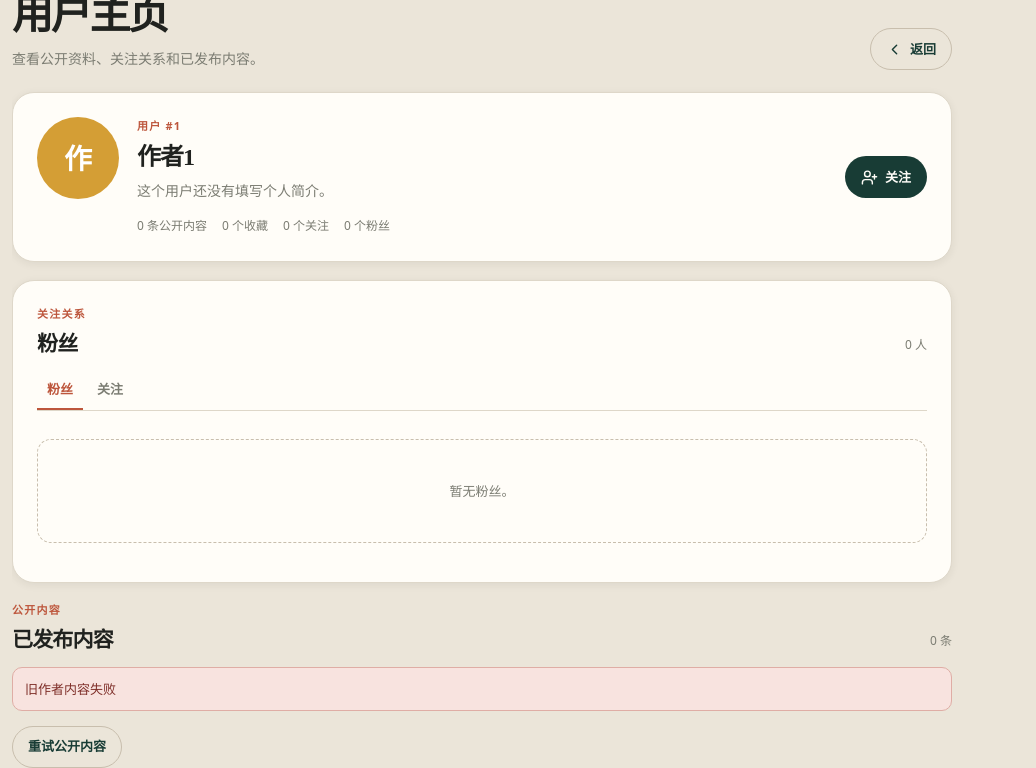
Test: 公开主页的分区状态 › ignores a content retry that arrives after switching authors
(page scrolled)
expect the heading "作者1" is shown: met, box [137,144,194,170]
Click the button "重试公开内容" at coordinates (67, 747), box [12,726,122,767]
(page scrolled)
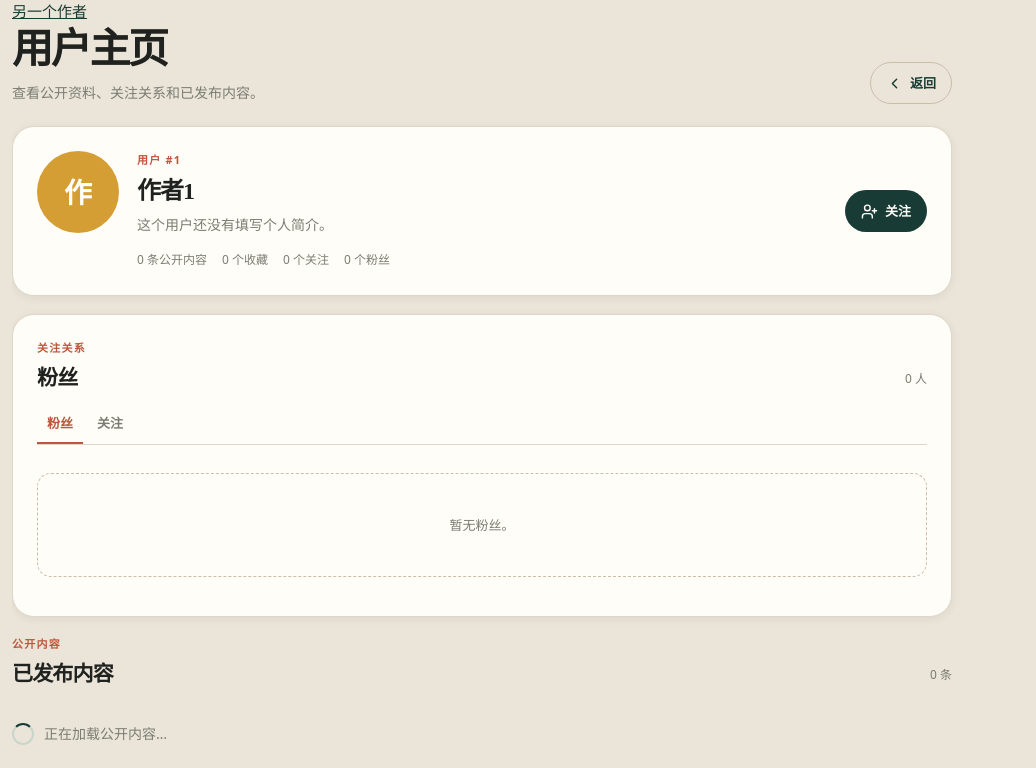
Click the link "另一个作者" at coordinates (50, 12), box [12,4,87,20]
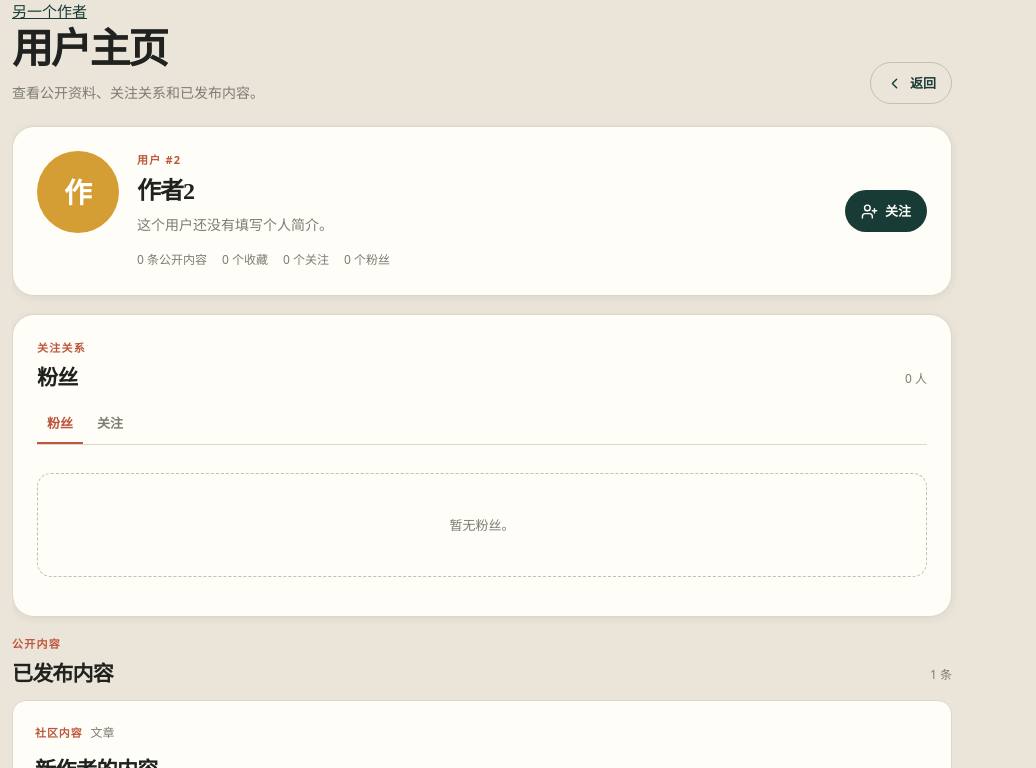
expect the heading "作者2" is shown: met, box [137,178,194,204]
